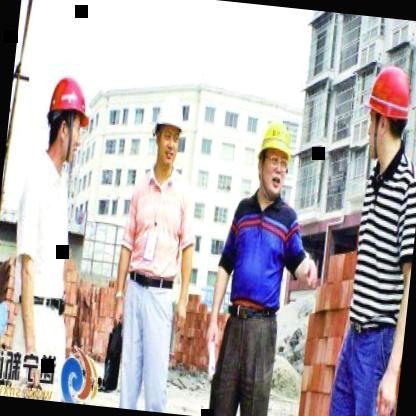helmet: (353, 49, 416, 179), (38, 66, 98, 169), (246, 108, 300, 210), (147, 92, 191, 174)
